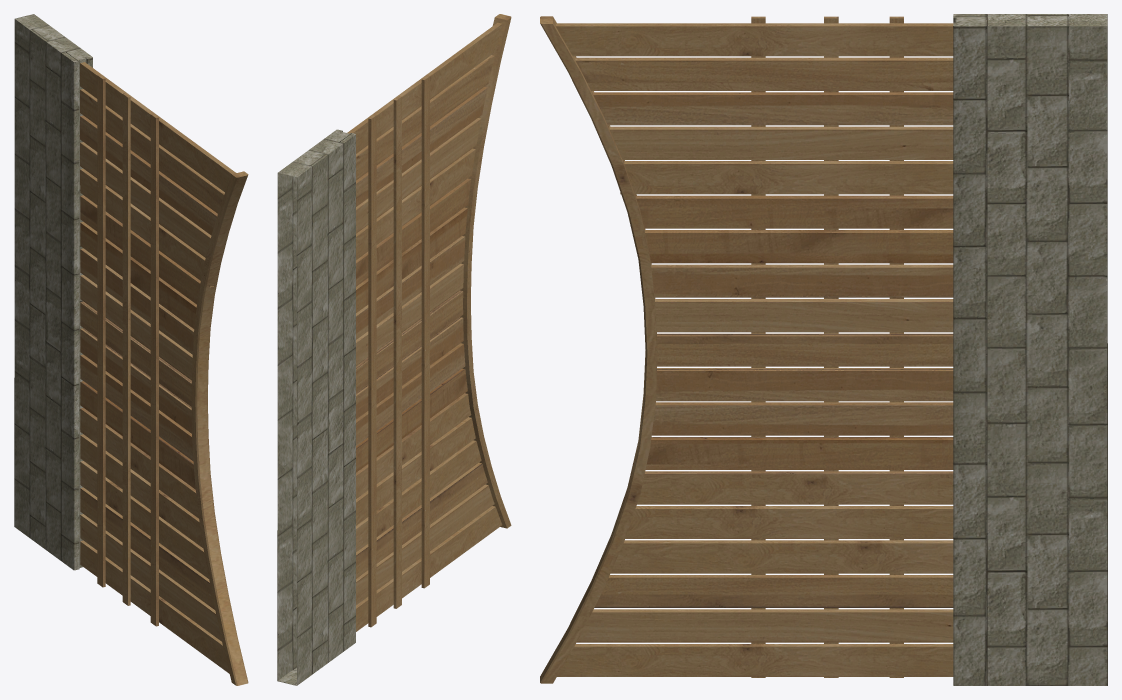
Rendered from nt_concrete_fence_100_tall_LOD0.obj.
3 renders of one model, left to right at view 1: azimuth 30°, elevation 25°; view 2: azimuth 150°, elevation 25°; view 3: azimuth 270°, elevation 25°, orthographic. The views are drawn at different scales.
Parts seen in each view (by area): view 1: nt_wood_fence, nt_2020_concrete_pattern_02; view 2: nt_wood_fence, nt_2020_concrete_pattern_02; view 3: nt_wood_fence, nt_2020_concrete_pattern_02.
Part boxes in pixels (left/top/right/bottom): nt_wood_fence: left=80, top=62, right=248, bottom=685; nt_2020_concrete_pattern_02: left=14, top=14, right=92, bottom=570; nt_wood_fence: left=347, top=14, right=511, bottom=631; nt_2020_concrete_pattern_02: left=277, top=129, right=355, bottom=685; nt_wood_fence: left=540, top=16, right=953, bottom=683; nt_2020_concrete_pattern_02: left=953, top=14, right=1107, bottom=685.
Bounding box in the file's own units: 10.16 × 254 × 198.
